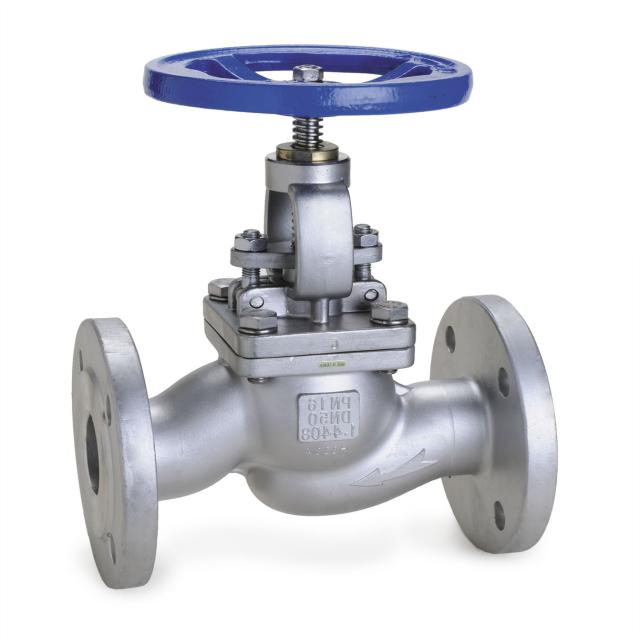Wheel Handle Valve Threaded: (106, 21, 581, 157)
